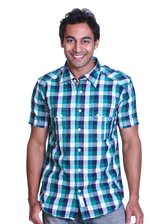clothoes: (31, 54, 142, 220)
